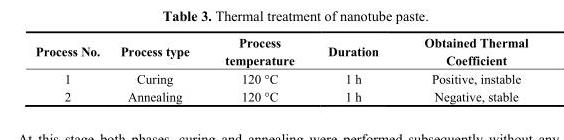table: (34, 34, 527, 103)
table column: (400, 34, 527, 103), (206, 34, 310, 103), (109, 34, 206, 103), (310, 34, 400, 103), (34, 34, 109, 103)
table column header: (34, 34, 527, 69)
table row: (34, 34, 527, 69), (34, 69, 527, 87), (34, 87, 527, 103)
